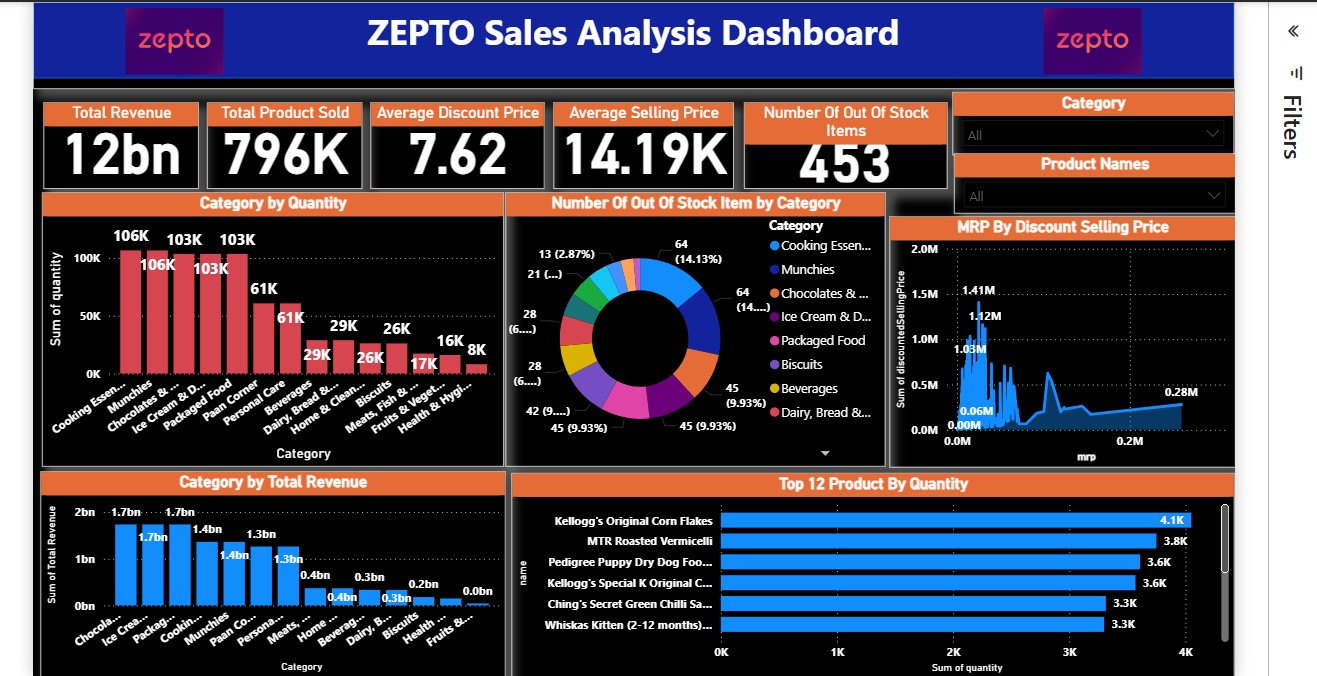

Layout of this report page (visuals, bound fields, positions):
{"tool":"powerbi","page":{"name":"Page 1","canvas":[1280,720],"ordinal":0},"visuals":[{"type":"shape","box":[0,0,1279.7,81.5],"z":0},{"type":"textbox","box":[0,0,1279.7,92.7],"z":1000},{"type":"image","box":[95.1,6.6,109.8,70.5],"z":2000},{"type":"card","title":"Total Revenue","fields":{"Values":["Sum(Sheet1.Total Revenue)"]},"box":[11.5,106.6,165.6,91.8],"z":3000},{"type":"card","title":"Total Product Sold","fields":{"Values":["Sum(Sheet1.quantity)"]},"box":[185.2,106.6,165.6,91.8],"z":4000},{"type":"card","title":"Average Discount Price","fields":{"Values":["Avg(Sheet1.discountPercent)"]},"box":[359,106.6,185.2,91.8],"z":5000},{"type":"card","title":"Average Selling Price","fields":{"Values":["Avg(Sheet1.discountedSellingPrice)"]},"box":[554.1,106.6,191.8,91.8],"z":6000},{"type":"card","title":"Number Of Out Of Stock Items","fields":{"Values":["Sheet1.Number Of Out Of Stock Item"]},"box":[757.4,106.6,216.4,91.8],"z":7000},{"type":"slicer","title":"Category","fields":{"Values":["Sheet1.Category"]},"box":[980,95.1,300,67.2],"z":8000},{"type":"slicer","title":"Product Names","fields":{"Values":["Sheet1.name"]},"box":[980.3,160.7,300,63.9],"z":9000},{"type":"columnChart","title":"Category by Quantity","fields":{"Category":["Sheet1.Category"],"Y":["Sum(Sheet1.quantity)"]},"box":[9.8,203.3,491.8,291.8],"z":10000},{"type":"donutChart","fields":{"Category":["Sheet1.Category"],"Y":["Sheet1.Number Of Out Of Stock Item"]},"box":[503.3,203.3,404.9,291.8],"z":11000},{"type":"areaChart","title":"MRP By Discount Selling Price","fields":{"Category":["Sheet1.mrp"],"Y":["Sum(Sheet1.discountedSellingPrice)"]},"box":[911.5,227.9,368.9,267.2],"z":12000},{"type":"columnChart","title":"Category by Total Revenue","fields":{"Category":["Sheet1.Category"],"Y":["Sum(Sheet1.Total Revenue)"]},"box":[8.2,500,495.1,219.7],"z":13000},{"type":"barChart","title":"Top 10 Product By Quantity","fields":{"Category":["Sheet1.name"],"Y":["Sum(Sheet1.quantity)"]},"box":[509.7,501.7,770.1,218.9],"z":14000},{"type":"image","box":[1073.8,6.6,109.8,70.5],"z":15000}]}

Visuals, with their boxes on the page's 1280x720 design canvas (x1, y1, x2, y2). These are canvas units, not pixel positions in the 1317x676 screenshot, which may show the page scaled, cropped or inside an application window:
shape: <box>0,0,1280,82</box>
textbox: <box>0,0,1280,93</box>
image: <box>95,7,205,77</box>
"Total Revenue" card: <box>12,107,177,198</box>
"Total Product Sold" card: <box>185,107,351,198</box>
"Average Discount Price" card: <box>359,107,544,198</box>
"Average Selling Price" card: <box>554,107,746,198</box>
"Number Of Out Of Stock Items" card: <box>757,107,974,198</box>
"Category" slicer: <box>980,95,1280,162</box>
"Product Names" slicer: <box>980,161,1280,225</box>
"Category by Quantity" columnChart: <box>10,203,502,495</box>
donutChart - Sheet1.Category x Sheet1.Number Of Out Of Stock Item: <box>503,203,908,495</box>
"MRP By Discount Selling Price" areaChart: <box>912,228,1280,495</box>
"Category by Total Revenue" columnChart: <box>8,500,503,720</box>
"Top 10 Product By Quantity" barChart: <box>510,502,1280,721</box>
image: <box>1074,7,1184,77</box>
